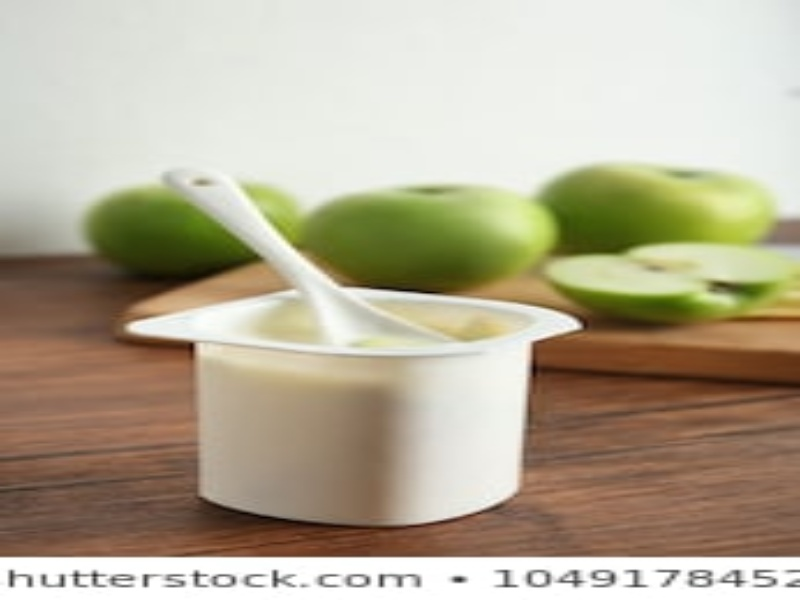yogurt-cup: (116, 288, 603, 534)
